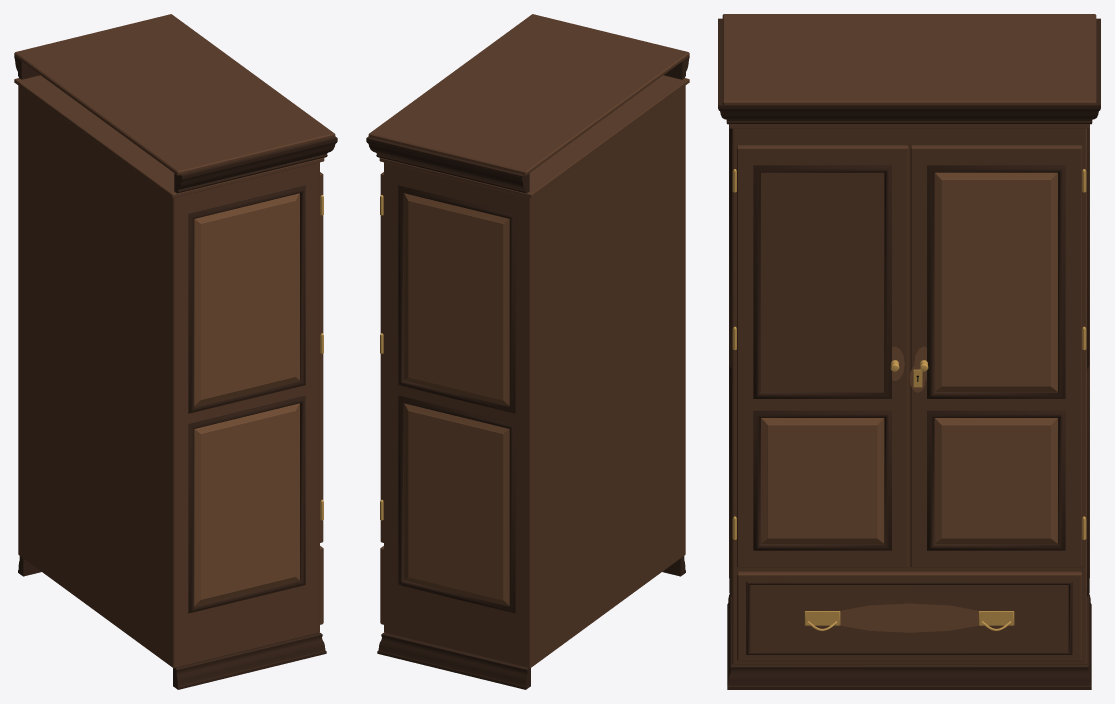
Rendered from wardrobe@1.glb.
The picture shows the model from 3 angles, left to right: view 1: azimuth 30°, elevation 25°; view 2: azimuth 150°, elevation 25°; view 3: azimuth 270°, elevation 25°; orthographic projection. The views are drawn at different scales.
Parts seen in each view (by area): view 1: korpus, fuellungen, deckplatte, leisten, sockel_kranz, tueren; view 2: korpus, fuellungen, deckplatte, leisten, sockel_kranz, tueren; view 3: tueren, fuellungen, deckplatte, leisten, sockel_kranz, korpus, abrieb, beschlaege.
Boxes of the visible parts, left/top/right/bottom form: korpus: left=14, top=75, right=324, bottom=668; fuellungen: left=194, top=193, right=299, bottom=605; deckplatte: left=14, top=14, right=335, bottom=175; leisten: left=188, top=185, right=305, bottom=613; sockel_kranz: left=14, top=56, right=337, bottom=689; tueren: left=320, top=172, right=323, bottom=624; korpus: left=379, top=75, right=689, bottom=668; fuellungen: left=404, top=193, right=509, bottom=605; deckplatte: left=368, top=14, right=689, bottom=175; leisten: left=398, top=185, right=515, bottom=613; sockel_kranz: left=366, top=56, right=689, bottom=689; tueren: left=380, top=172, right=383, bottom=624; tueren: left=737, top=145, right=1081, bottom=661; fuellungen: left=729, top=128, right=1089, bottom=588; deckplatte: left=722, top=14, right=1096, bottom=105; leisten: left=729, top=128, right=1089, bottom=654; sockel_kranz: left=718, top=18, right=1100, bottom=689; korpus: left=729, top=124, right=1089, bottom=664; abrieb: left=840, top=346, right=978, bottom=632; beschlaege: left=732, top=169, right=1086, bottom=631.
Bounding box in the file's own units: 0.668 × 2.03 × 1.19.
